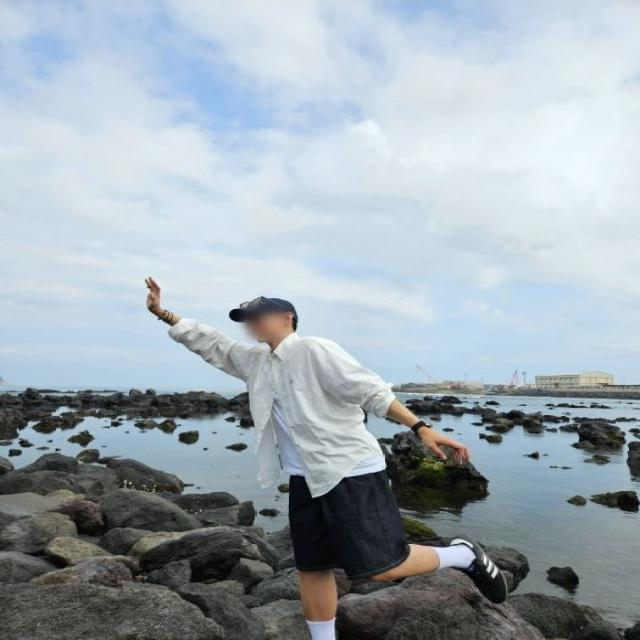shirt: (163, 312, 400, 496)
shortpants: (283, 468, 407, 576)
